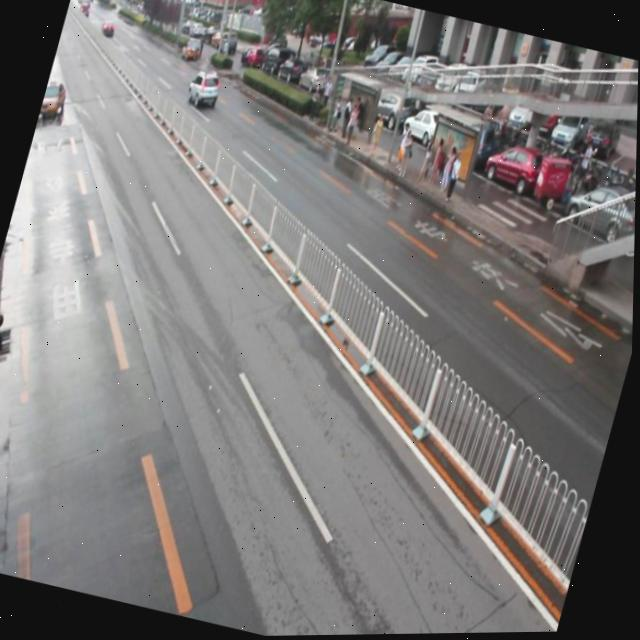car: (185, 67, 223, 112)
